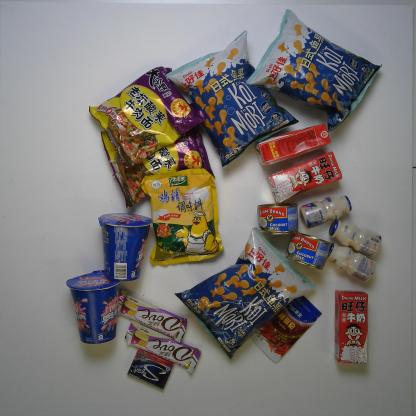Canned Food: (284, 230, 332, 274), (255, 202, 300, 235)
Chocolate: (124, 322, 212, 376), (111, 288, 190, 344)
Dessert: (66, 268, 123, 346), (97, 209, 152, 282)
Gum: (126, 348, 175, 392)
Instant Noodles: (81, 56, 198, 165), (97, 110, 215, 212)
Milk: (264, 153, 352, 206), (253, 121, 332, 169), (330, 287, 370, 367), (322, 241, 380, 284), (328, 218, 384, 258), (298, 193, 354, 229)
Puffed Food: (174, 226, 318, 361), (165, 28, 297, 168), (247, 5, 388, 135)
Seasoner: (140, 165, 225, 265), (246, 287, 323, 370)
